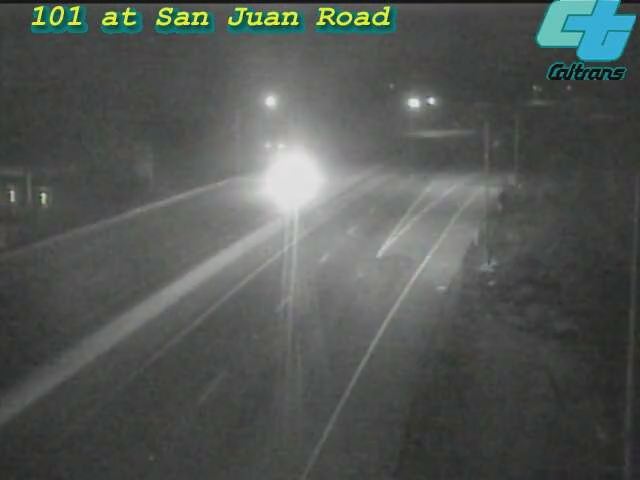vehicle: (248, 139, 328, 219)
